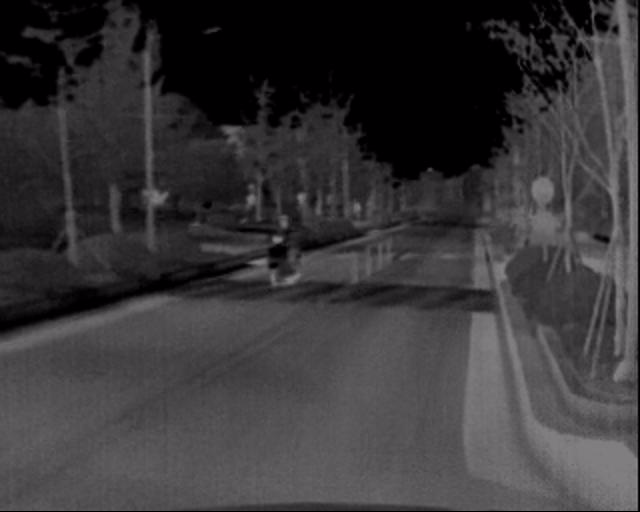person: (250, 209, 295, 288)
